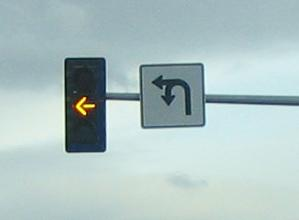yellow_light: (64, 57, 106, 152)
